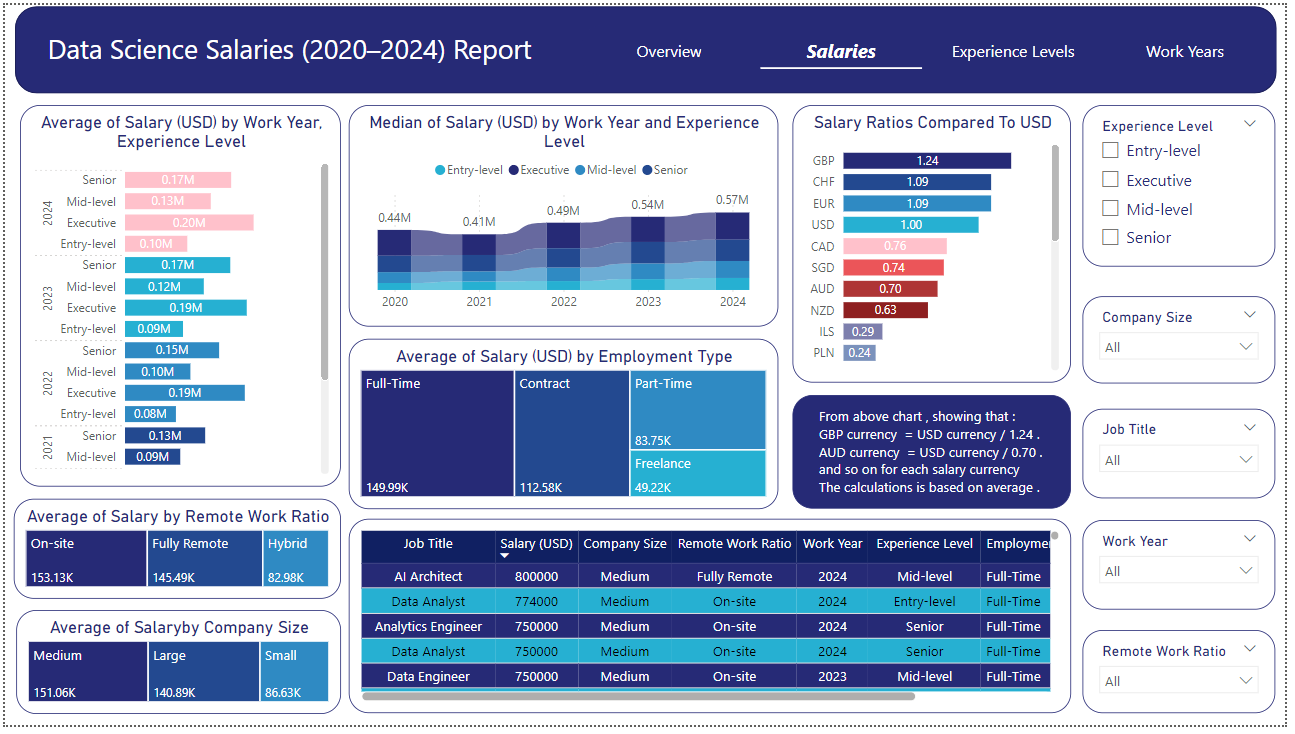

The dashboard page shown, as its layout file describes it:
{"tool":"powerbi","page":{"name":"Salaries","canvas":[1280,720],"ordinal":1},"visuals":[{"type":"shape","box":[10.5,1.2,1261.6,87.2],"z":0},{"type":"textbox","box":[30.2,20.5,509.1,45.8],"z":1000},{"type":"slicer","fields":{"Values":["Dataset salary 2024.Company Size"]},"box":[1077.4,290.8,193,86.9],"z":2000},{"type":"slicer","fields":{"Values":["Dataset salary 2024.Job Title"]},"box":[1077.4,404.2,193,89.3],"z":3000},{"type":"slicer","fields":{"Values":["Dataset salary 2024.Work Year"]},"box":[1077.4,515.2,193,89.3],"z":4000},{"type":"slicer","fields":{"Values":["Dataset salary 2024.Remote Work Ratio"]},"box":[1077.4,624.9,193,83.2],"z":5000},{"type":"slicer","fields":{"Values":["Dataset salary 2024.Experience Level"]},"box":[1077.4,100.1,193,161.7],"z":6000},{"type":"treemap","title":"Average of Salary  by Remote Work Ratio","fields":{"Group":["Dataset salary 2024.Remote Work Ratio"],"Values":["Avg(Dataset salary 2024.Salary (USD))"]},"box":[8.4,493.4,326.9,100.1],"z":7000},{"type":"pageNavigator","box":[576.7,20.1,694.8,51.5],"z":8000},{"type":"barChart","title":"Salary Ratios Compared To USD","fields":{"Category":["Dataset salary 2024.Salary Currency"],"Y":["Avg(Dataset salary 2024.Ratio To USD)"],"Series":["Dataset salary 2024.Salary Currency"]},"box":[787.8,100.1,278.7,277.5],"z":9000},{"type":"treemap","fields":{"Values":["Avg(Dataset salary 2024.Salary (USD))"],"Group":["Dataset salary 2024.Employment Type"]},"box":[343.8,334.2,429.5,170.1],"z":10000},{"type":"treemap","title":"Average of Salaryby Company Size","fields":{"Group":["Dataset salary 2024.Company Size"],"Values":["Avg(Dataset salary 2024.Salary (USD))"]},"box":[10.9,604.4,324.5,103.8],"z":11000},{"type":"barChart","title":"Average of Salary (USD) by Work Year, Experience Level ","fields":{"Category":["Dataset salary 2024.Work Year","Dataset salary 2024.Experience Level"],"Y":["Avg(Dataset salary 2024.Salary (USD))"],"Series":["Dataset salary 2024.Work Year"]},"box":[14.5,100.1,320.9,381.2],"z":12000},{"type":"ribbonChart","fields":{"Category":["Dataset salary 2024.Work Year"],"Y":["Median(Dataset salary 2024.Salary (USD))"],"Series":["Dataset salary 2024.Experience Level"]},"box":[343.8,100.1,429.5,222],"z":13000},{"type":"tableEx","fields":{"Values":["Dataset salary 2024.Job Title","Dataset salary 2024.Salary (USD)","Dataset salary 2024.Company Size","Dataset salary 2024.Remote Work Ratio","Dataset salary 2024.Work Year","Dataset salary 2024.Experience Level","Dataset salary 2024.Employment Type","Dataset salary 2024.Company Location"]},"box":[343.8,513.9,722.7,194.2],"z":14000},{"type":"textbox","box":[787.5,390,278.8,113.8],"z":15000}]}

Visuals, with their boxes in screenshot pixels (x1, y1, x2, y2), scaled from the page's 1280x720 canvas onto the 1295x734 screenshot:
shape: crop(11, 1, 1287, 90)
textbox: crop(31, 21, 546, 68)
slicer - Dataset salary 2024.Company Size: crop(1090, 296, 1285, 385)
slicer - Dataset salary 2024.Job Title: crop(1090, 412, 1285, 503)
slicer - Dataset salary 2024.Work Year: crop(1090, 525, 1285, 616)
slicer - Dataset salary 2024.Remote Work Ratio: crop(1090, 637, 1285, 722)
slicer - Dataset salary 2024.Experience Level: crop(1090, 102, 1285, 267)
"Average of Salary  by Remote Work Ratio" treemap: crop(8, 503, 339, 605)
pageNavigator: crop(583, 20, 1286, 73)
"Salary Ratios Compared To USD" barChart: crop(797, 102, 1079, 385)
treemap - Avg(Dataset salary 2024.Salary (USD)) x Dataset salary 2024.Employment Type: crop(348, 341, 782, 514)
"Average of Salaryby Company Size" treemap: crop(11, 616, 339, 722)
"Average of Salary (USD) by Work Year, Experience Level " barChart: crop(15, 102, 339, 491)
ribbonChart - Dataset salary 2024.Work Year x Median(Dataset salary 2024.Salary (USD)): crop(348, 102, 782, 328)
tableEx - Dataset salary 2024.Job Title x Dataset salary 2024.Salary (USD): crop(348, 524, 1079, 722)
textbox: crop(797, 398, 1079, 514)
